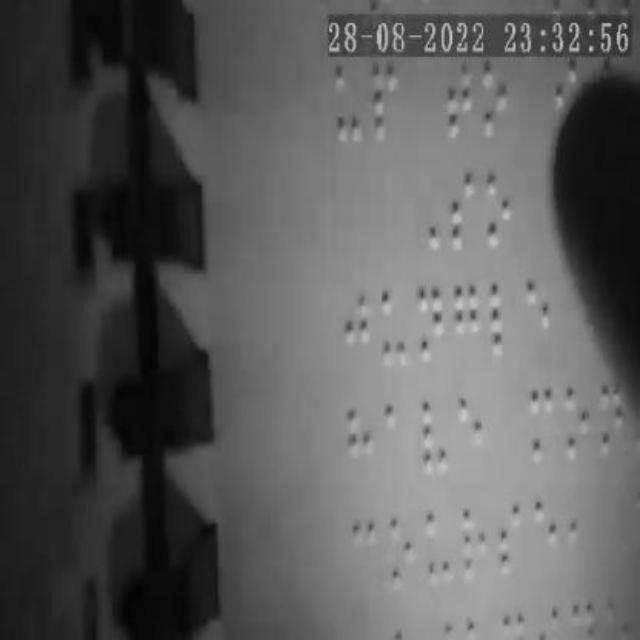braiile: (444, 160, 484, 256), (487, 276, 523, 364), (332, 53, 364, 151), (421, 499, 457, 586), (379, 282, 415, 368), (342, 284, 376, 374), (448, 280, 484, 364), (368, 58, 402, 146), (442, 52, 474, 144), (497, 493, 527, 589), (346, 398, 378, 487), (459, 499, 491, 588), (478, 56, 510, 142), (482, 164, 514, 250), (346, 514, 382, 590), (418, 402, 452, 482), (534, 491, 564, 581), (562, 386, 594, 470), (523, 278, 553, 366), (456, 394, 486, 482), (387, 512, 419, 594), (597, 379, 627, 465), (417, 278, 447, 362), (382, 400, 414, 478), (527, 384, 557, 464), (568, 493, 598, 569)
